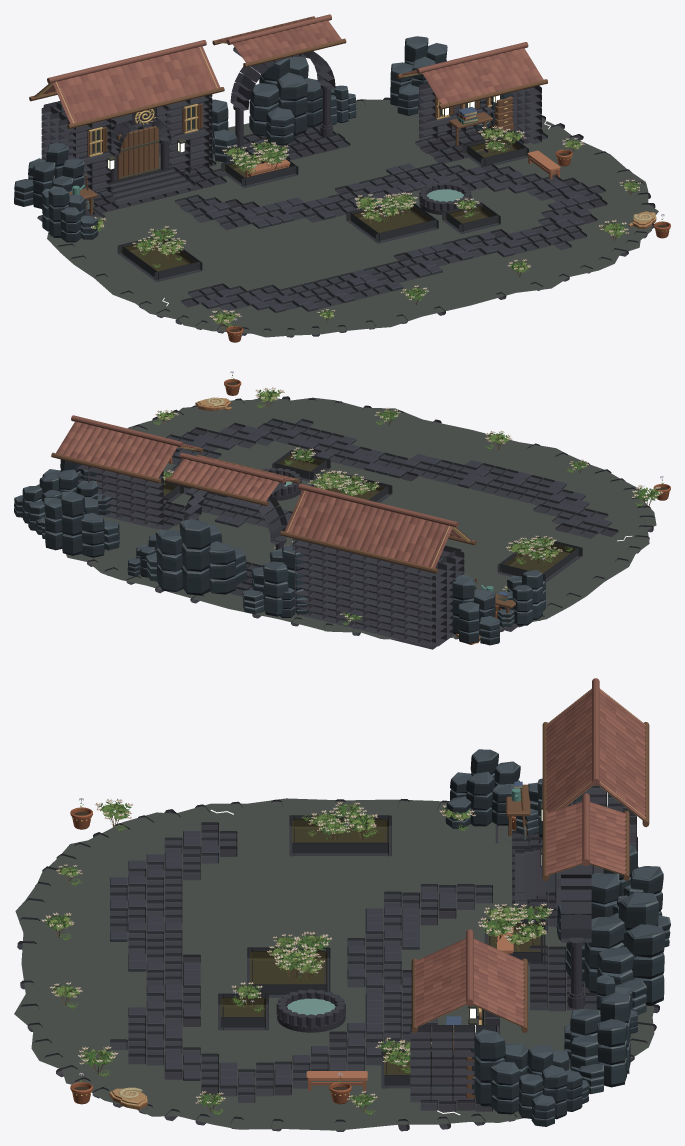
File: vulkara.glb
3 views of the same model, one above another, from view 1: azimuth 30°, elevation 25°; view 2: azimuth 150°, elevation 25°; view 3: azimuth 270°, elevation 25° (orthographic). The views are drawn at different scales.
Parts seen in each view (by area): view 1: merged-masonry-botany, merged-timber-ceramic; view 2: merged-masonry-botany, merged-timber-ceramic; view 3: merged-masonry-botany, merged-timber-ceramic.
Boxes of the visible parts, x1,y1,x2,y2 form: merged-masonry-botany: (14, 36, 670, 342); merged-timber-ceramic: (29, 14, 547, 214); merged-masonry-botany: (14, 371, 670, 649); merged-timber-ceramic: (51, 415, 515, 622); merged-masonry-botany: (14, 749, 670, 1131); merged-timber-ceramic: (411, 678, 649, 1099).
Size of the model in its own units: 24.32 by 5.38 by 20.32.
